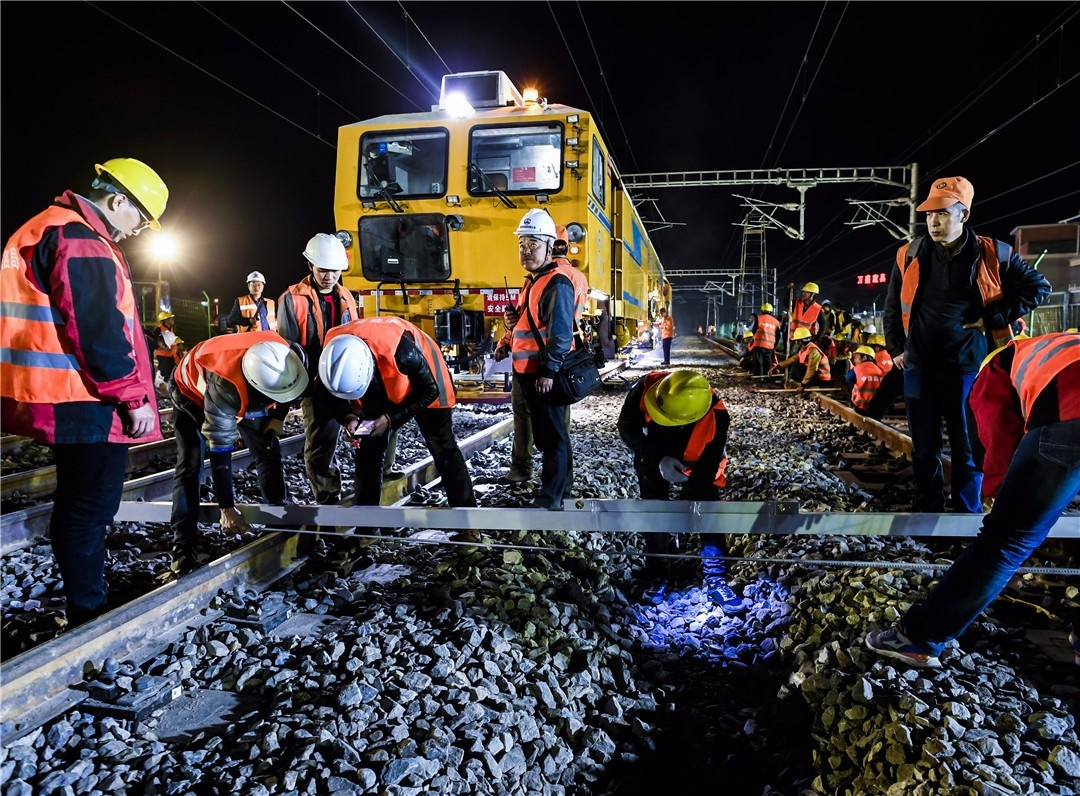none: (921, 179, 973, 241), (832, 300, 842, 312)
red: (659, 306, 667, 318)
white: (240, 337, 306, 404), (317, 332, 377, 401), (301, 232, 352, 289), (515, 208, 557, 268), (244, 270, 267, 296), (851, 313, 861, 324)
yellow: (84, 150, 170, 246), (645, 368, 714, 431), (853, 345, 874, 366), (799, 282, 820, 302), (792, 326, 811, 346), (156, 310, 175, 329), (866, 334, 884, 352), (759, 302, 773, 316), (742, 330, 754, 343)
